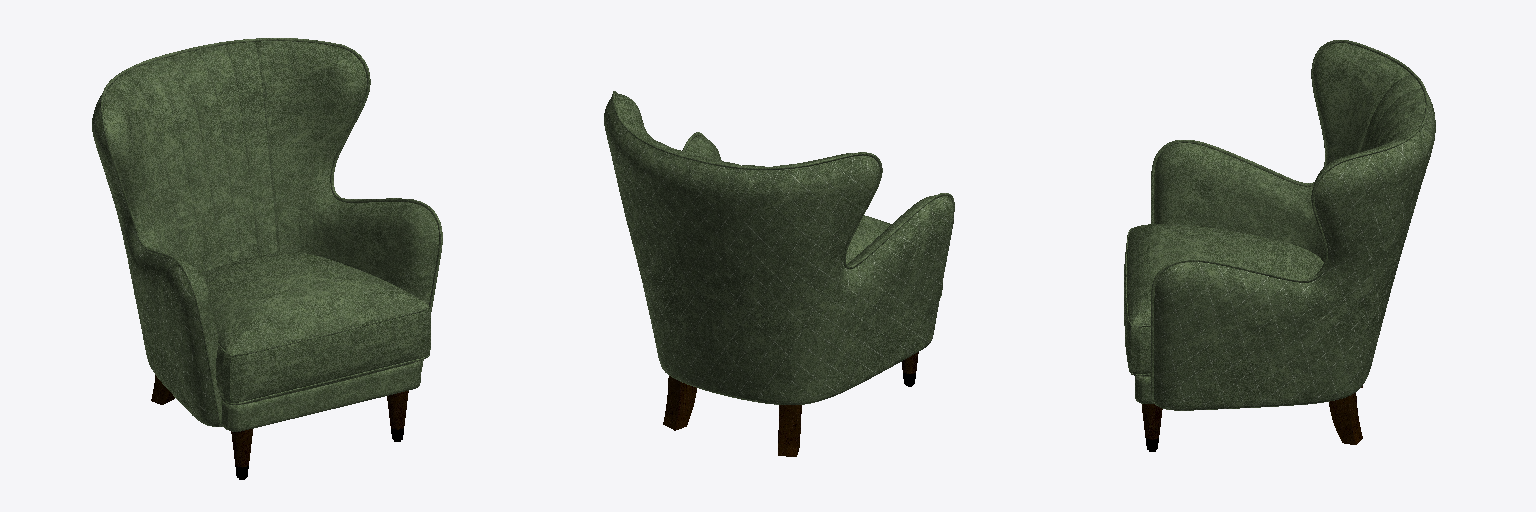
3 renders of one model, left to right at view 1: azimuth 30°, elevation 25°; view 2: azimuth 150°, elevation 25°; view 3: azimuth 270°, elevation 25°, orthographic.
Parts seen in each view (by area): view 1: armchair_LOD001; view 2: armchair_LOD001; view 3: armchair_LOD001.
Part boxes in pixels (left/top/right/bottom): armchair_LOD001: left=92, top=38, right=442, bottom=479; armchair_LOD001: left=604, top=91, right=954, bottom=456; armchair_LOD001: left=1124, top=40, right=1435, bottom=451.
Size of the model in its own units: 0.7876 by 0.8886 by 0.7991.
4 materials, 3 textured.